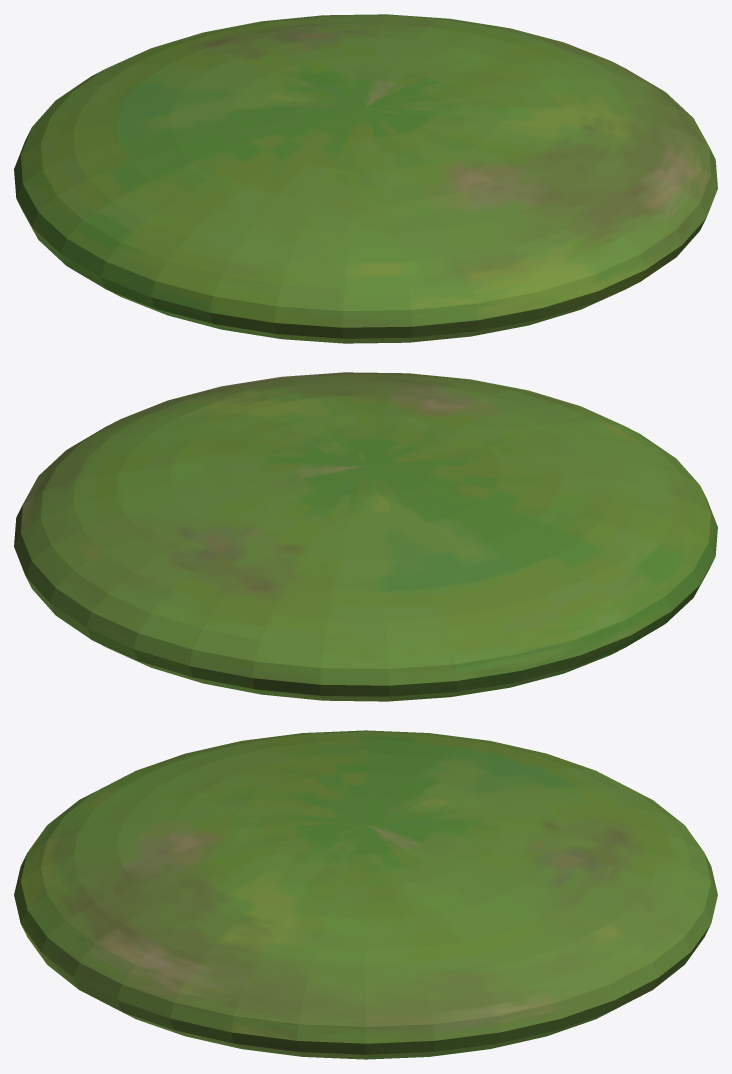
The model's file is island.obj.
3 renders of one model, top to bottom at view 1: azimuth 30°, elevation 25°; view 2: azimuth 150°, elevation 25°; view 3: azimuth 270°, elevation 25°, orthographic.
Visible parts, largest first — view 1: Sphere; view 2: Sphere; view 3: Sphere.
Boxes of the visible parts, x1,y1,x2,y2 form: Sphere: (14,14,717,343); Sphere: (14,372,717,701); Sphere: (14,730,717,1059).
Bounding box in the file's own units: 9 × 2 × 9.
1 material, 1 textured.
